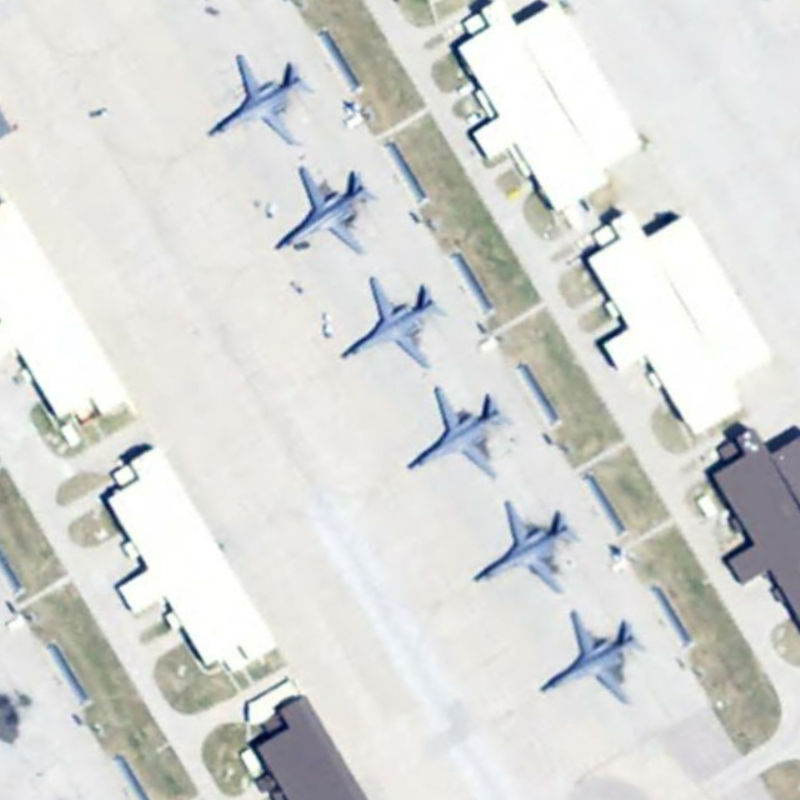A10: (537, 601, 654, 717), (469, 494, 587, 601), (331, 267, 448, 372), (398, 378, 515, 482), (204, 47, 316, 152), (269, 161, 381, 259)
